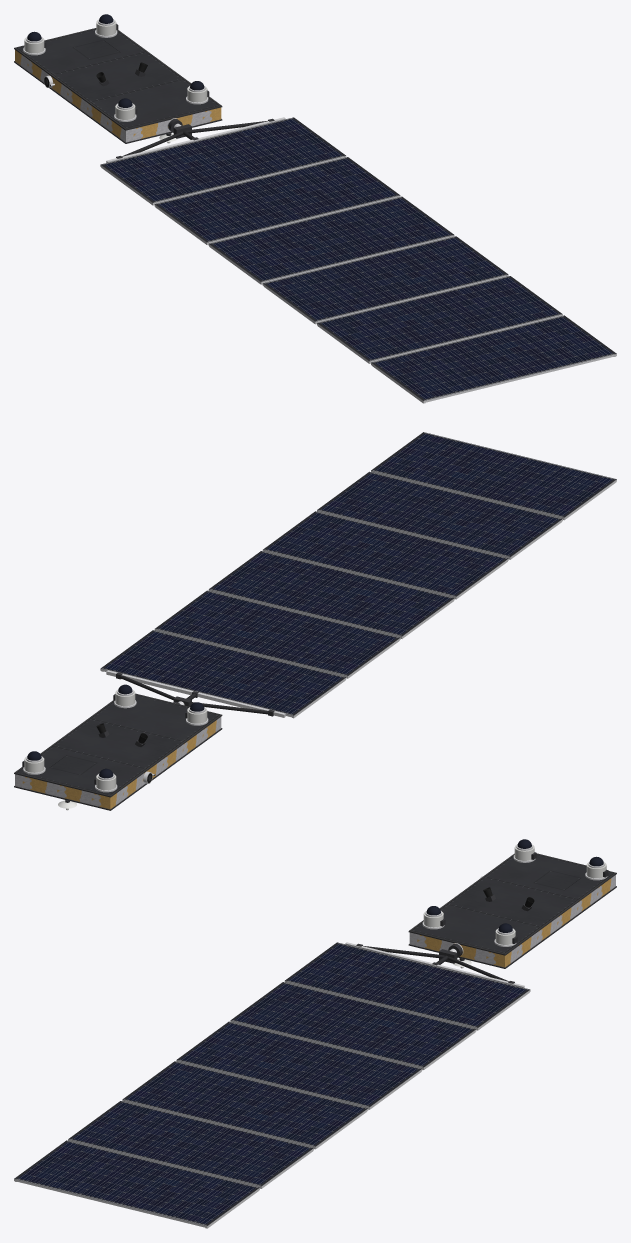
Rendered from starlink-v15.glb.
3 views of the same model, one above another, from view 1: azimuth 30°, elevation 25°; view 2: azimuth 150°, elevation 25°; view 3: azimuth 330°, elevation 25° (orthographic).
Visible parts, largest first — view 1: Wing_R, Bus; view 2: Wing_R, Bus; view 3: Wing_R, Bus.
Part boxes in pixels (bbox=[...]): Wing_R: bbox=[100, 117, 616, 403]; Bus: bbox=[14, 28, 222, 143]; Wing_R: bbox=[100, 432, 616, 718]; Bus: bbox=[14, 693, 222, 810]; Wing_R: bbox=[14, 942, 530, 1228]; Bus: bbox=[408, 853, 616, 968].
Size of the model in its own units: 2.8 by 0.6498 by 11.48.
12 materials, 5 textured.
